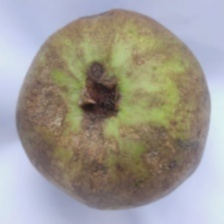guava: (28, 51, 195, 194)
